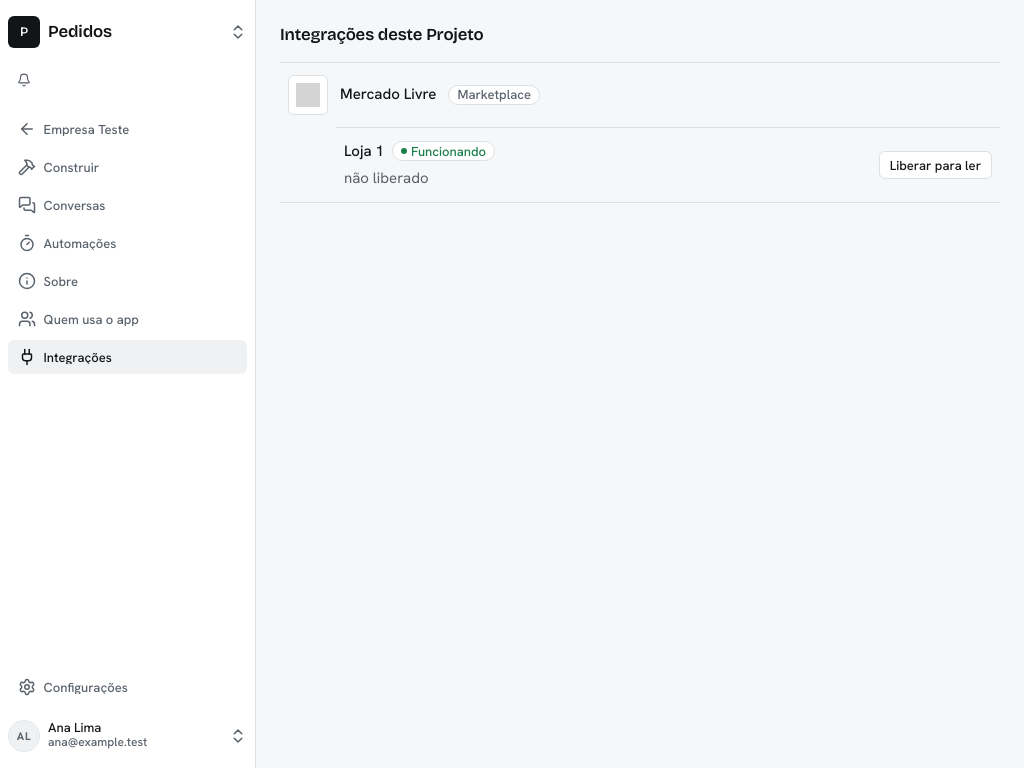
Test: a liberação recusada porque o Projeto já lê outra ligação diz a frase na janela
The width and height of the screenshot is (1024, 768).
Click the button with aria-label "Liberar para ler: Loja 1" at (935, 165), box [879,151,992,179]
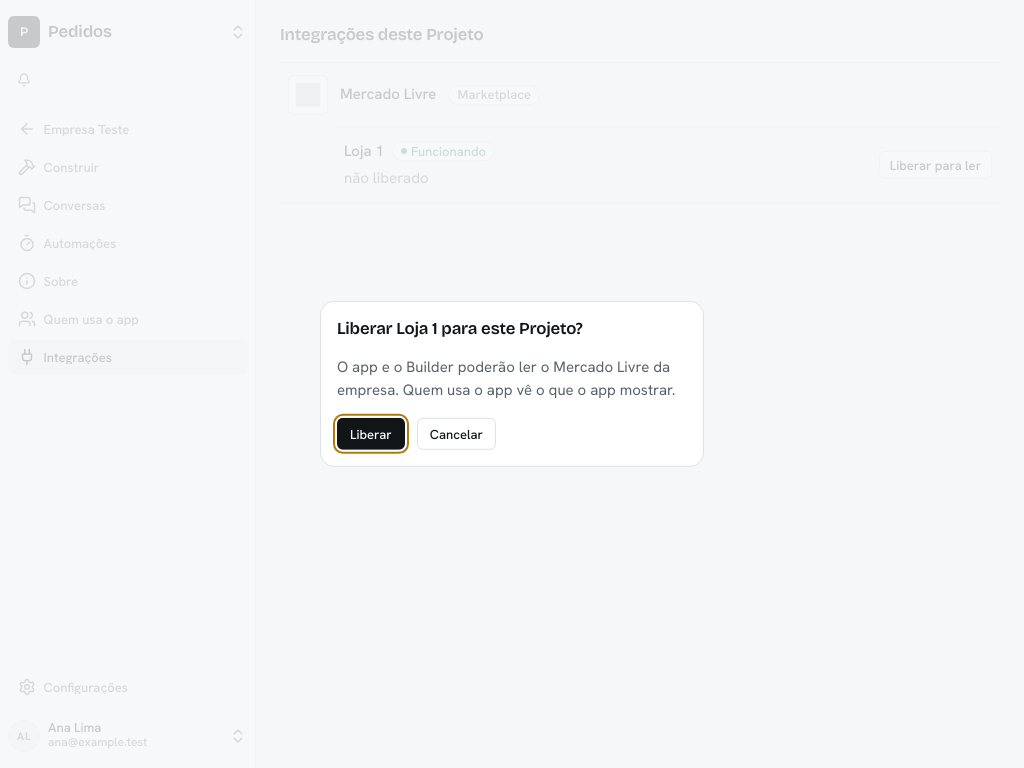
Click the button "Liberar" at (371, 434), box [337,418,405,450]
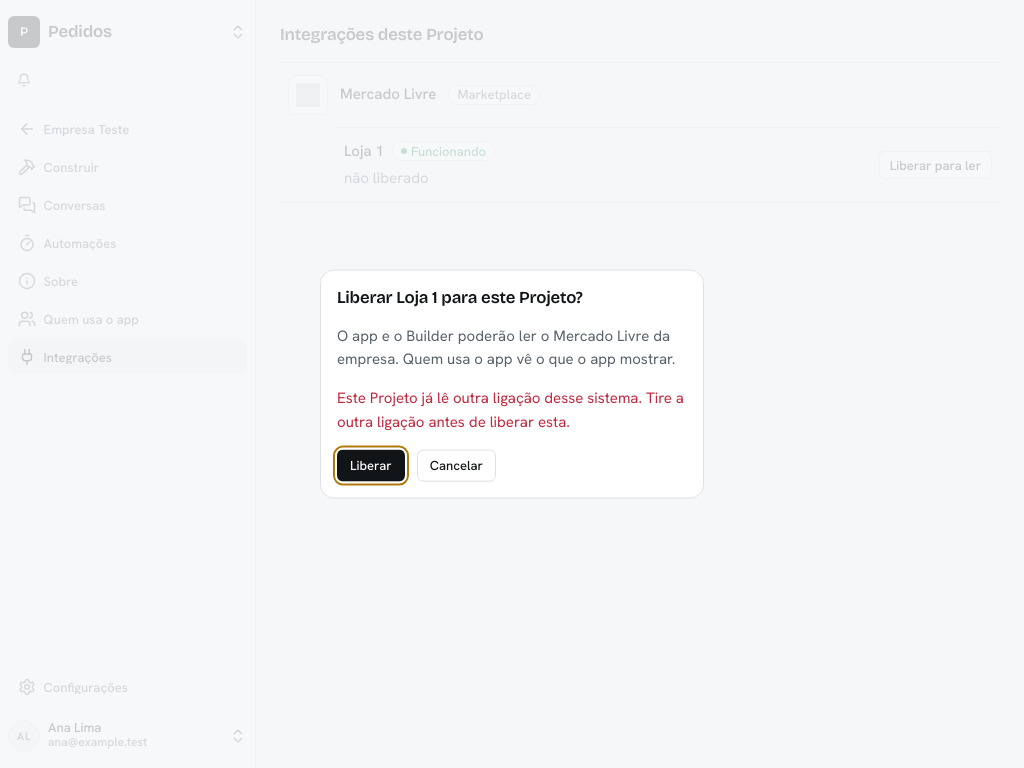
Now the text "Este Projeto já lê outra ligação desse sistema. Tire a outra ligação antes de liberar esta." is shown, box [337,388,684,431]
